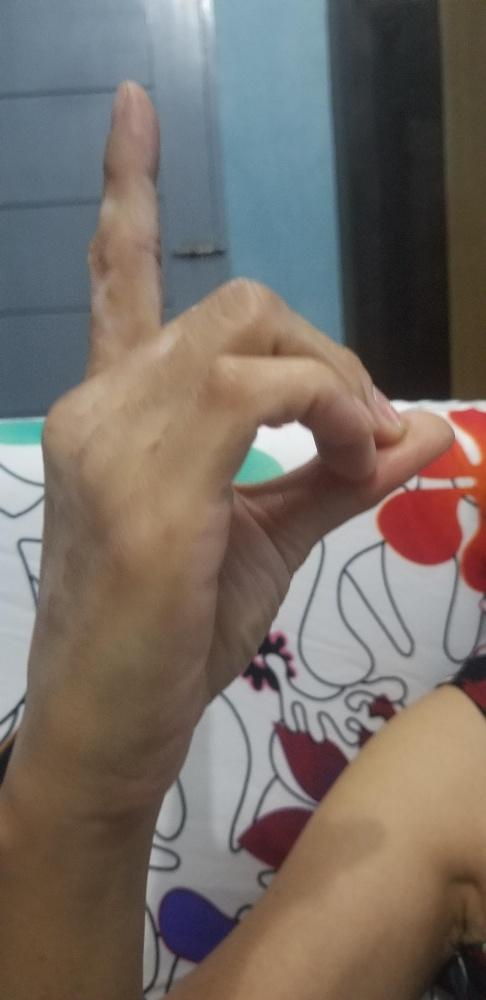d: (21, 76, 455, 778)
